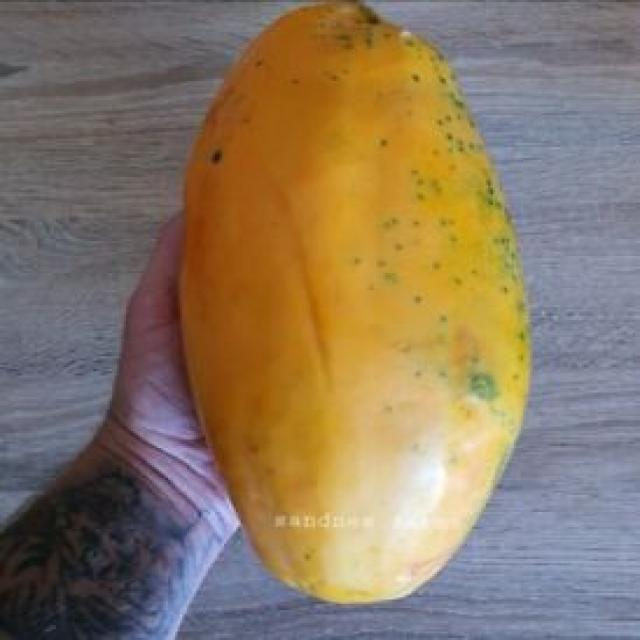Pepaya rippen: (189, 2, 551, 627)
